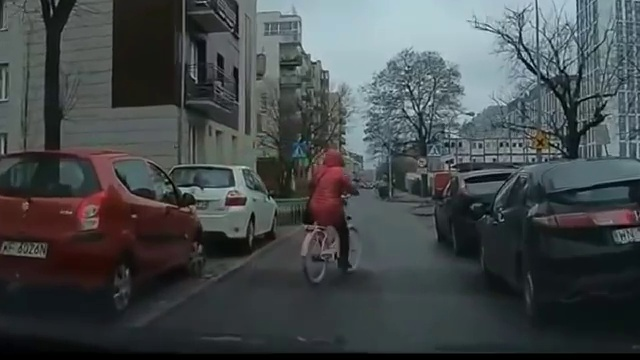cyclist_back: (296, 147, 365, 282)
